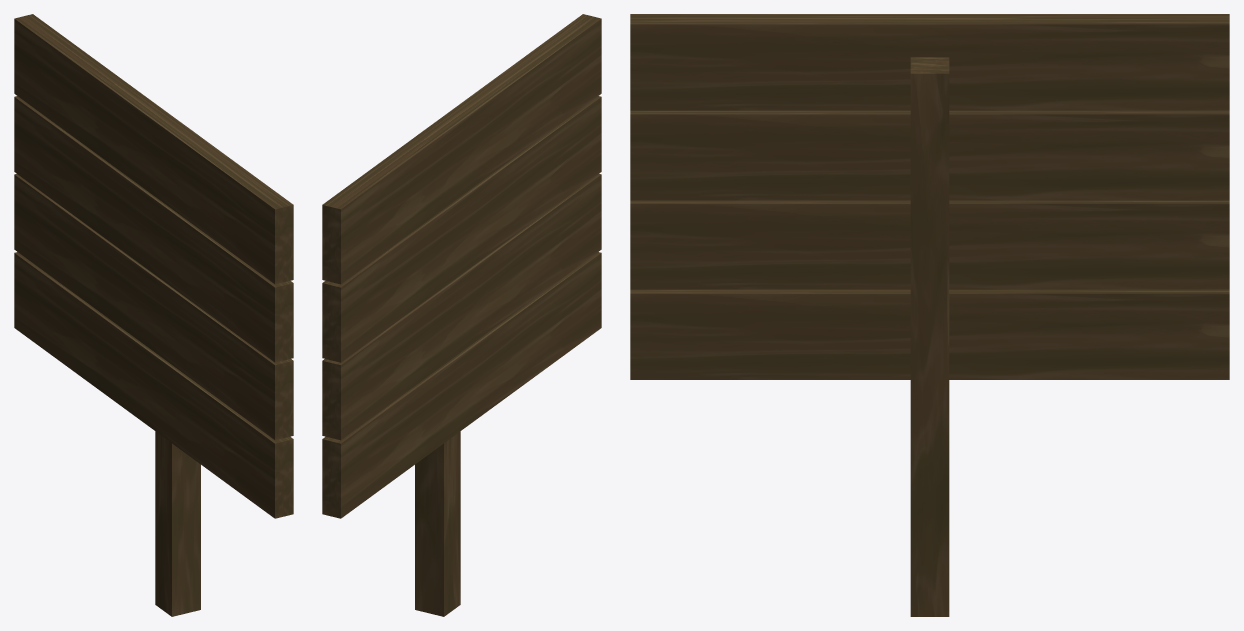
The model's file is sign.fbx.
3 views of the same model, side by side, from view 1: azimuth 30°, elevation 25°; view 2: azimuth 150°, elevation 25°; view 3: azimuth 270°, elevation 25° (orthographic). The views are drawn at different scales.
Visible parts, largest first — view 1: Signboard; view 2: Signboard; view 3: Signboard.
Part boxes in pixels (x1,y1,x2,y2): Signboard: [14, 14, 293, 616]; Signboard: [322, 14, 601, 616]; Signboard: [630, 14, 1229, 616].
Bounding box in the file's own units: 0.0385 × 0.3854 × 0.3633.
